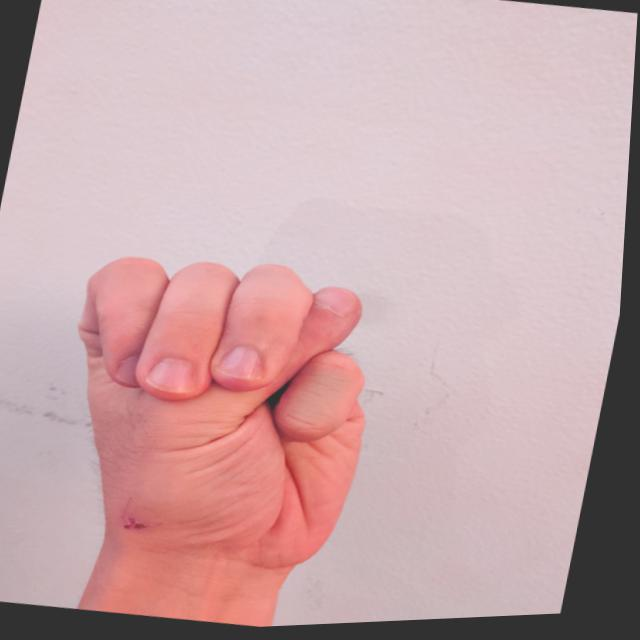M: (23, 230, 418, 597)
